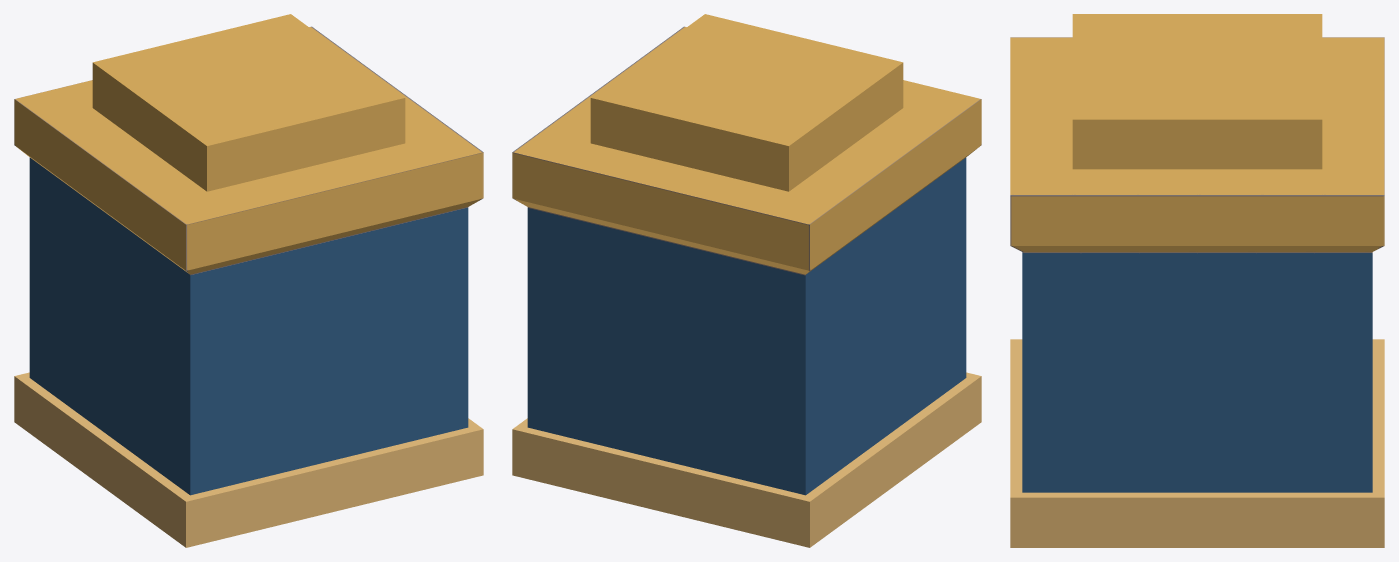
The model's file is serving.fbx.
3 renders of one model, left to right at view 1: azimuth 30°, elevation 25°; view 2: azimuth 150°, elevation 25°; view 3: azimuth 270°, elevation 25°, orthographic. The views are drawn at different scales.
Parts seen in each view (by area): view 1: Serving_Station; view 2: Serving_Station; view 3: Serving_Station.
Part boxes in pixels (left/top/right/bottom): Serving_Station: left=14, top=14, right=483, bottom=547; Serving_Station: left=512, top=14, right=981, bottom=547; Serving_Station: left=1010, top=14, right=1384, bottom=547.
Bounding box in the file's own units: 1.98 × 2.35 × 1.98.
